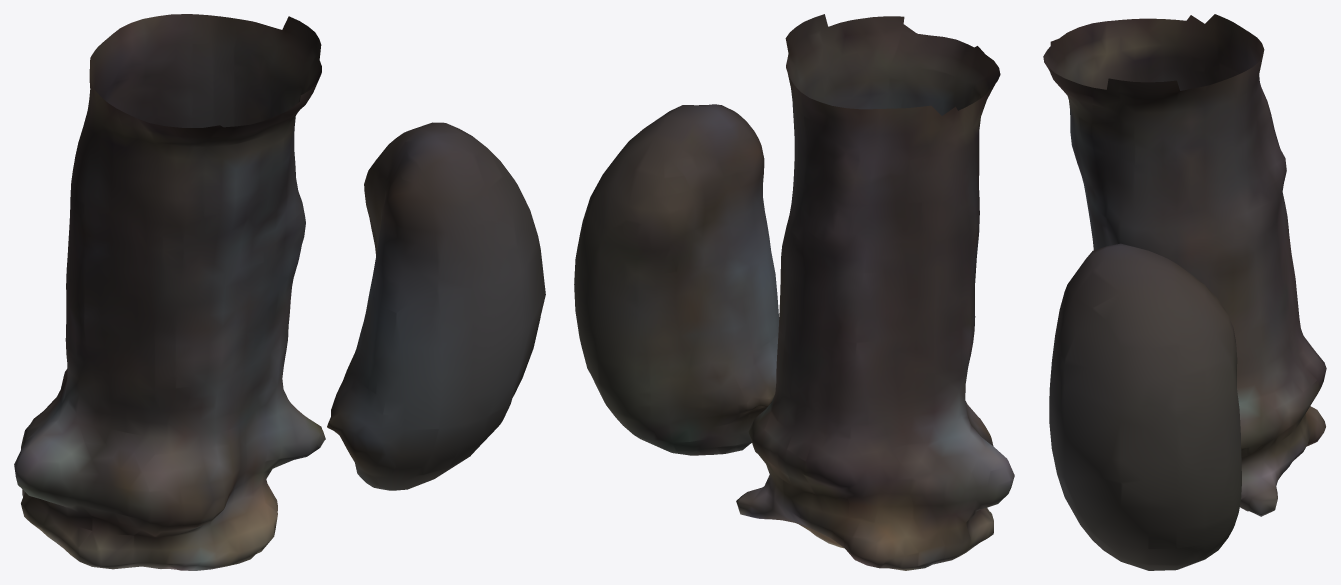
Rendered from cup.obj.
3 renders of one model, left to right at view 1: azimuth 30°, elevation 25°; view 2: azimuth 150°, elevation 25°; view 3: azimuth 270°, elevation 25°, orthographic. The views are drawn at different scales.
Bounding box in the file's own units: 0.3094 × 0.3085 × 0.1721.
